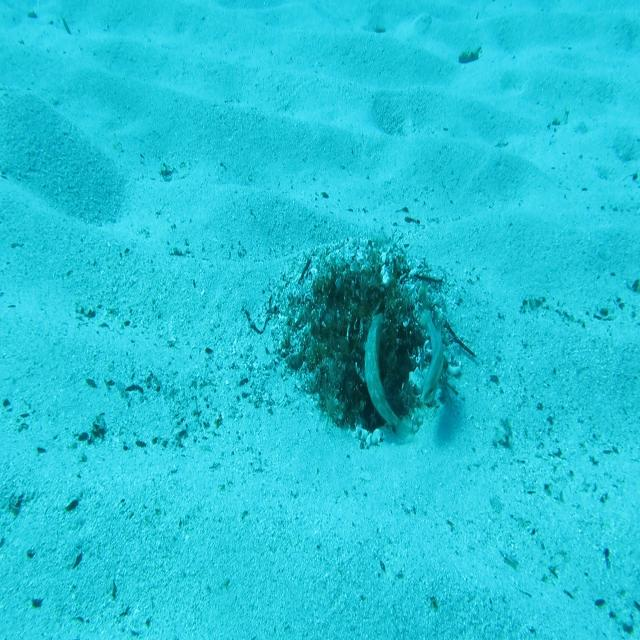DAN_CIRC: (364, 310, 414, 442)
core_nest: (337, 282, 388, 340)
female: (418, 298, 445, 406)
nest: (253, 211, 468, 465)
vegetation: (455, 44, 482, 64)
